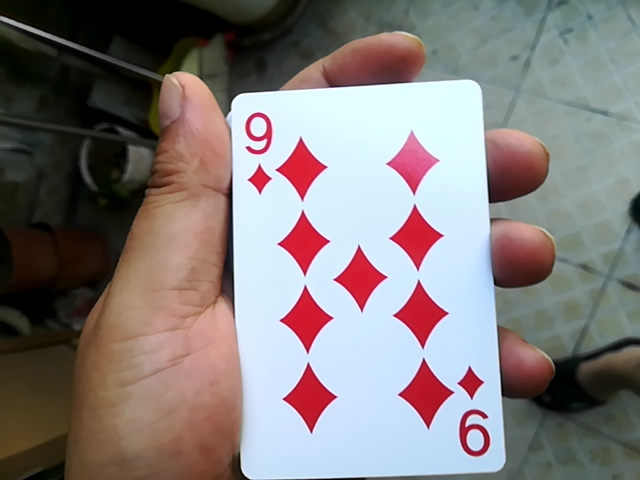fk 9: (204, 71, 481, 477)
